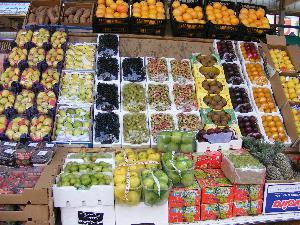apple: (162, 133, 202, 199), (116, 144, 162, 200), (268, 44, 300, 72), (278, 74, 300, 99)
grape: (227, 148, 263, 178), (122, 114, 148, 144), (94, 82, 120, 112), (121, 83, 146, 113), (95, 114, 120, 142), (96, 56, 120, 82), (122, 57, 144, 81), (97, 34, 119, 56)
kiwi: (202, 107, 235, 125), (199, 93, 231, 109), (198, 80, 228, 93), (197, 66, 225, 78), (196, 54, 220, 66)
orange: (167, 2, 205, 24), (208, 2, 238, 28), (129, 1, 165, 22), (96, 0, 128, 22), (242, 4, 270, 28)
pear: (54, 106, 92, 147), (61, 70, 92, 103), (66, 42, 96, 68), (32, 115, 54, 142), (35, 90, 56, 114), (1, 66, 21, 90), (38, 70, 60, 91), (10, 116, 28, 140), (21, 68, 41, 89), (1, 88, 18, 112), (14, 92, 34, 112), (45, 48, 63, 66), (50, 32, 70, 48), (10, 47, 26, 67), (16, 27, 30, 49), (29, 47, 45, 65), (31, 28, 47, 46)
pineapple: (256, 142, 300, 192)
plum: (259, 113, 291, 146), (199, 123, 237, 145), (238, 112, 264, 142), (253, 87, 279, 112), (230, 85, 252, 111), (243, 62, 269, 84), (239, 41, 263, 63), (224, 63, 245, 85), (218, 40, 236, 62)
strawberry: (0, 166, 44, 196)
